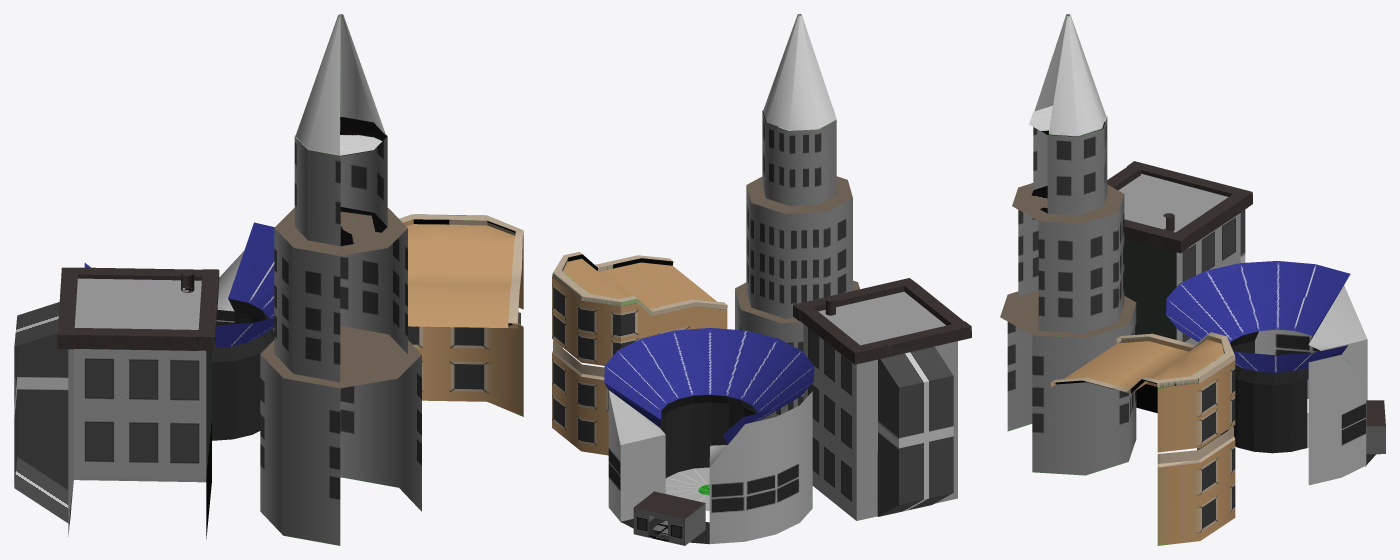
The model's file is City.FBX.
3 renders of one model, left to right at view 1: azimuth 30°, elevation 25°; view 2: azimuth 150°, elevation 25°; view 3: azimuth 270°, elevation 25°, orthographic. The views are drawn at different scales.
Visible parts, largest first — view 1: Cone001, Box003, Box001, Cylinder002; view 2: Cylinder002, Box003, Cone001, Box001, Box002; view 3: Cone001, Cylinder002, Box001, Box003, Box002.
Part boxes in pixels (x1,y1,x2,y2): Cone001: [260, 14, 421, 545]; Box003: [14, 267, 219, 538]; Box001: [399, 214, 523, 416]; Cylinder002: [84, 222, 274, 440]; Cylinder002: [604, 328, 814, 544]; Box003: [793, 278, 971, 520]; Cone001: [735, 14, 859, 419]; Box001: [552, 252, 727, 455]; Box002: [633, 491, 705, 545]; Cone001: [1000, 14, 1136, 475]; Cylinder002: [1166, 261, 1375, 485]; Box001: [1050, 332, 1235, 545]; Box003: [1107, 161, 1252, 413]; Box002: [1366, 400, 1385, 454].
Size of the model in its own units: 77.58 by 75.3 by 60.86.
